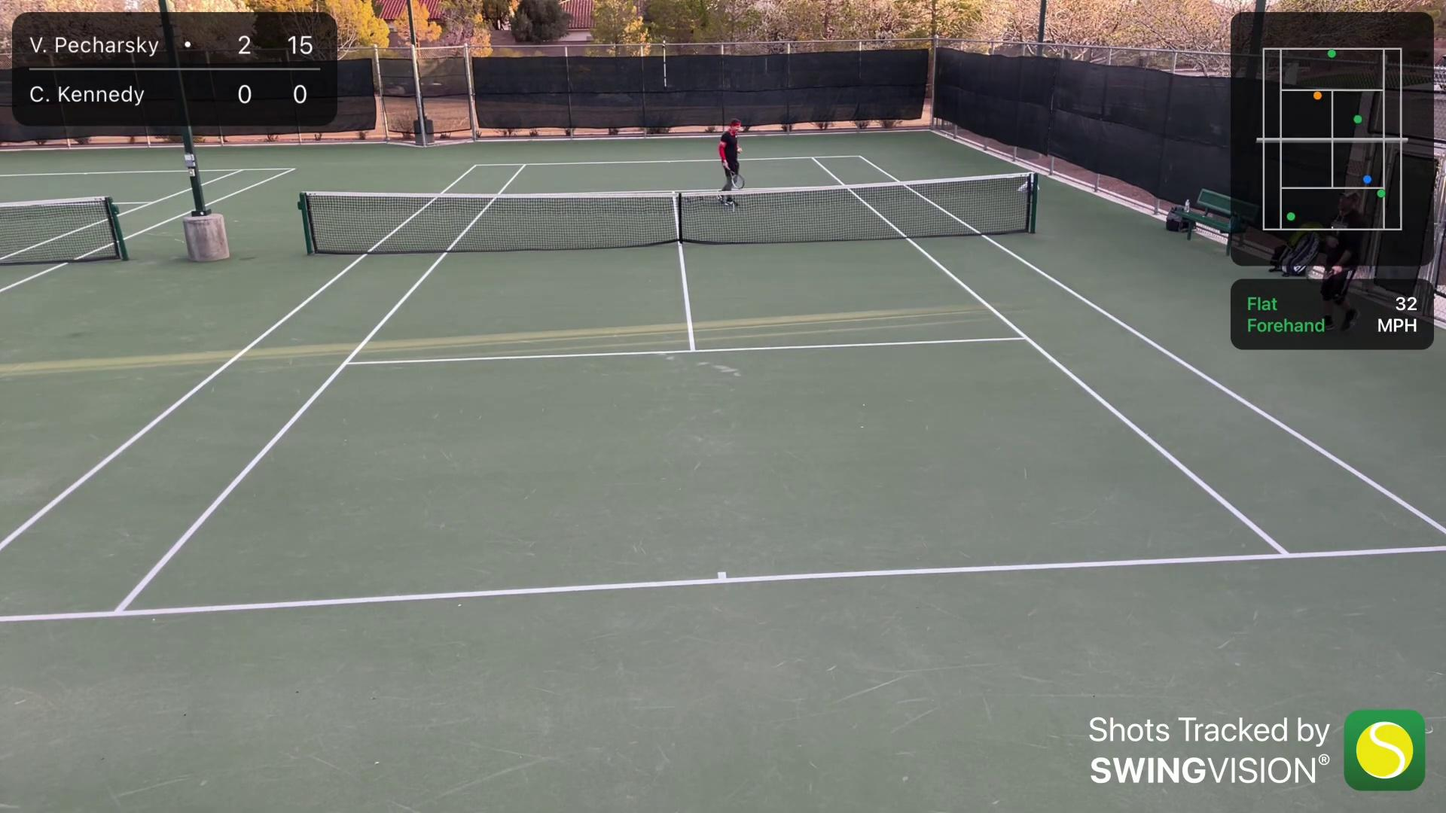ball: (736, 147, 745, 157)
